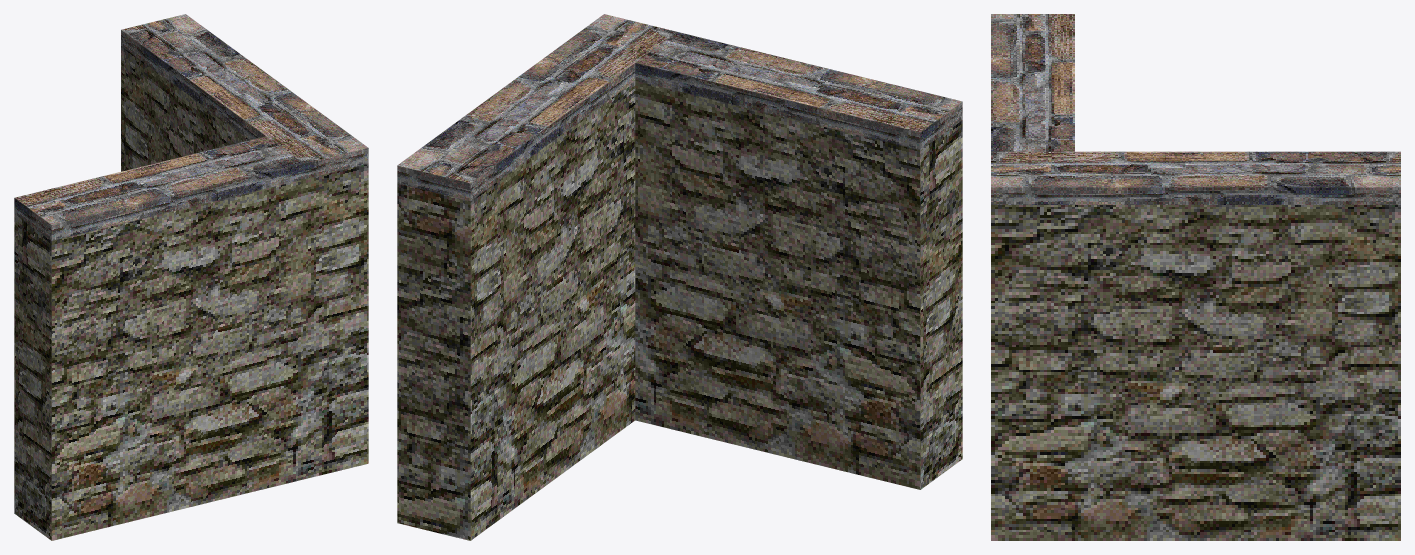
Rendered from foundation-corner.glb.
The picture shows the model from 3 angles, left to right: view 1: azimuth 30°, elevation 25°; view 2: azimuth 150°, elevation 25°; view 3: azimuth 270°, elevation 25°; orthographic projection. The views are drawn at different scales.
Parts seen in each view (by area): view 1: foundation-corner.001; view 2: foundation-corner.001; view 3: foundation-corner.001.
Part boxes in pixels (bbox=[...]): foundation-corner.001: bbox=[14, 14, 368, 540]; foundation-corner.001: bbox=[397, 14, 962, 540]; foundation-corner.001: bbox=[991, 14, 1400, 540].
Size of the model in its own units: 2.1 by 2 by 2.1.
2 materials, 2 textured.
